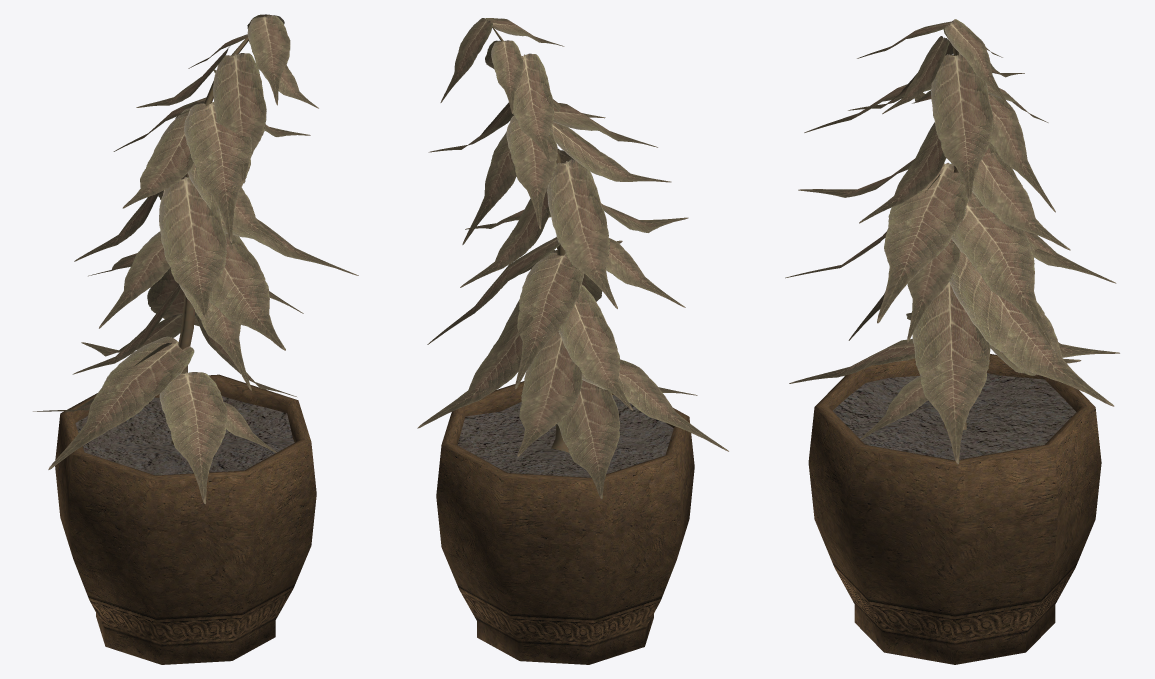
The model's file is Roomplant2.fbx.
3 renders of one model, left to right at view 1: azimuth 30°, elevation 25°; view 2: azimuth 150°, elevation 25°; view 3: azimuth 270°, elevation 25°, orthographic. The views are drawn at different scales.
Parts seen in each view (by area): view 1: Circle_001; view 2: Circle_001; view 3: Circle_001.
Boxes of the visible parts, bbox=[...] form: Circle_001: bbox=[33, 14, 358, 664]; Circle_001: bbox=[417, 18, 728, 664]; Circle_001: bbox=[785, 19, 1119, 664].
Size of the model in its own units: 1.94 by 3.54 by 1.84.
